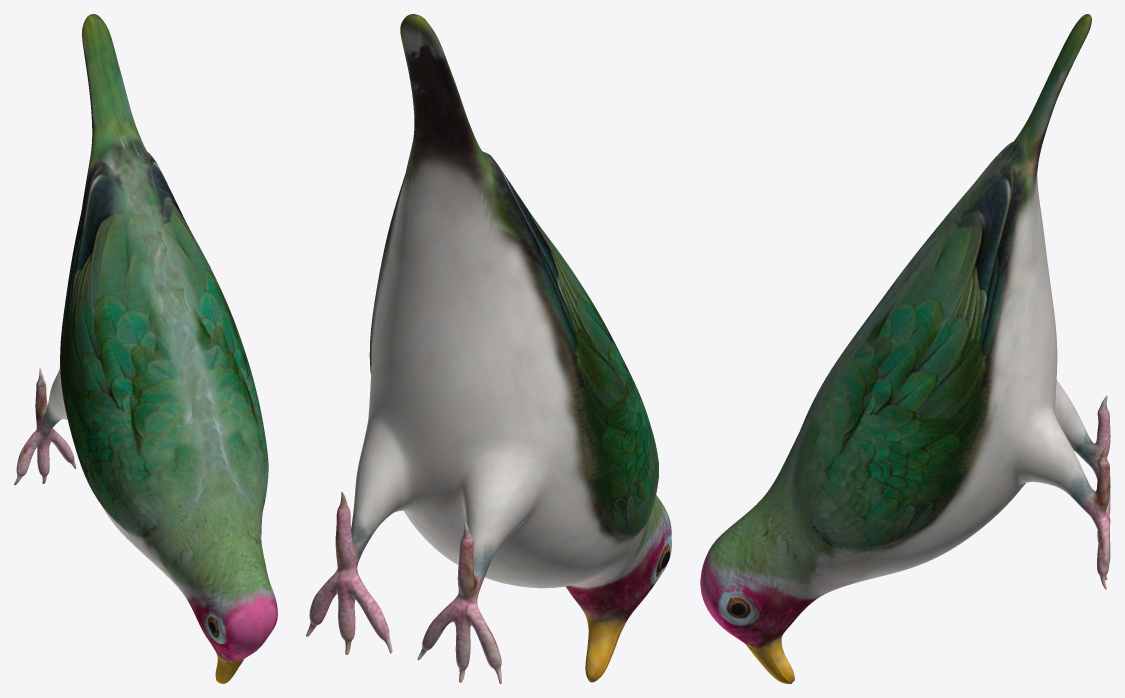
The model's file is 13563_Jambu_fruit_dove_v1_L3.obj.
3 views of the same model, side by side, from view 1: azimuth 30°, elevation 25°; view 2: azimuth 150°, elevation 25°; view 3: azimuth 270°, elevation 25° (orthographic). The views are drawn at different scales.
Parts seen in each view (by area): view 1: Jambu_Fruit_Dove; view 2: Jambu_Fruit_Dove; view 3: Jambu_Fruit_Dove.
Boxes of the visible parts, x1,y1,x2,y2 form: Jambu_Fruit_Dove: (14, 14, 277, 683); Jambu_Fruit_Dove: (306, 14, 671, 683); Jambu_Fruit_Dove: (700, 14, 1110, 683).
Bounding box in the file's own units: 3.07 × 10.23 × 5.68.
Materials: 1 (1 with a texture image).
